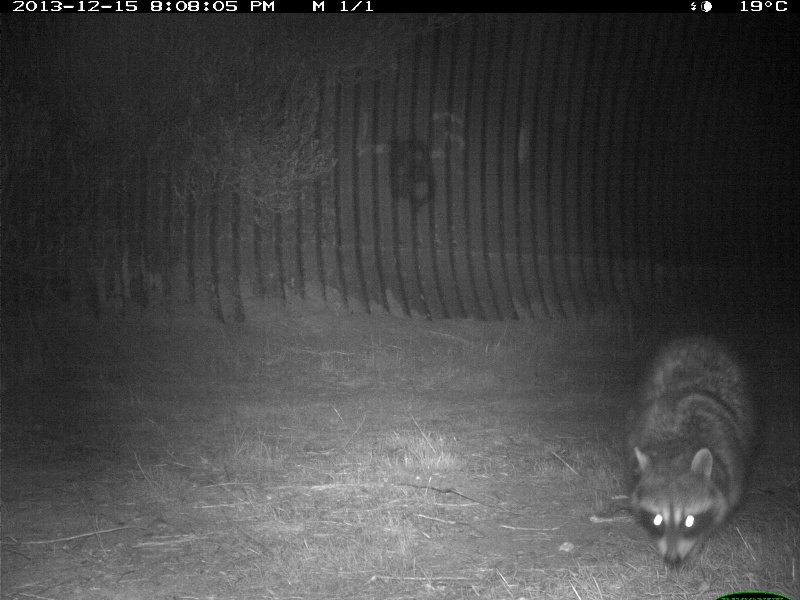raccoon: (622, 328, 762, 575)
